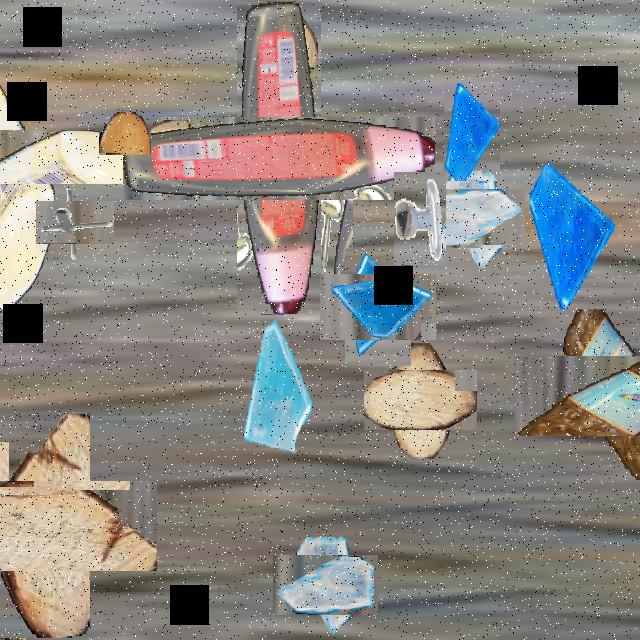glass: (530, 158, 614, 308), (233, 318, 313, 461), (332, 262, 424, 353), (430, 177, 514, 260), (284, 543, 366, 627), (444, 82, 500, 181)
metal: (297, 178, 353, 277), (394, 172, 446, 265), (44, 192, 106, 252), (0, 464, 30, 516)
plastic: (180, 59, 378, 257), (0, 65, 118, 247), (536, 333, 640, 460)
wood: (0, 447, 123, 604), (376, 356, 464, 444), (240, 16, 314, 73), (99, 112, 151, 155)
